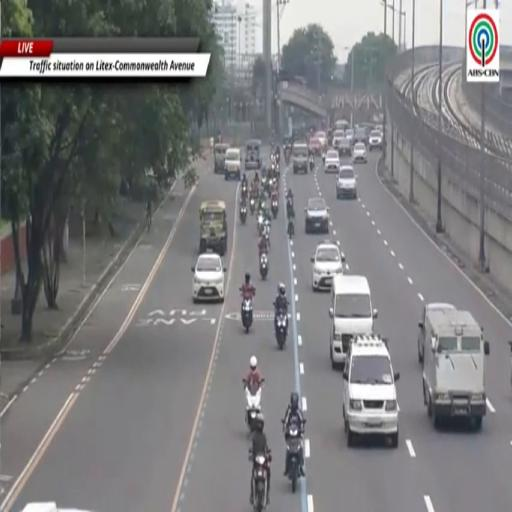car: (343, 334, 399, 447), (418, 302, 456, 362), (311, 240, 345, 291), (192, 253, 226, 302), (305, 198, 329, 233), (337, 166, 357, 199), (21, 502, 89, 511), (225, 148, 241, 180), (245, 139, 261, 170), (292, 142, 308, 173), (214, 143, 229, 173), (325, 150, 339, 172), (352, 142, 366, 163), (369, 131, 382, 151), (308, 137, 322, 155), (338, 137, 351, 156), (333, 131, 344, 150), (315, 132, 327, 149), (354, 127, 367, 142), (335, 120, 349, 132), (345, 128, 354, 143)
motorcycle: (243, 379, 264, 433), (286, 422, 302, 492), (252, 454, 270, 511), (276, 310, 287, 349), (242, 299, 253, 332), (259, 253, 268, 280), (262, 219, 270, 248), (286, 199, 294, 219), (287, 217, 294, 239), (240, 205, 247, 224), (271, 200, 278, 219), (257, 213, 263, 235), (250, 198, 255, 215), (285, 150, 290, 165), (242, 183, 247, 197), (275, 163, 279, 180), (309, 158, 314, 171), (262, 176, 267, 188), (322, 152, 326, 165)
truck: (423, 310, 489, 429), (200, 201, 227, 255)
